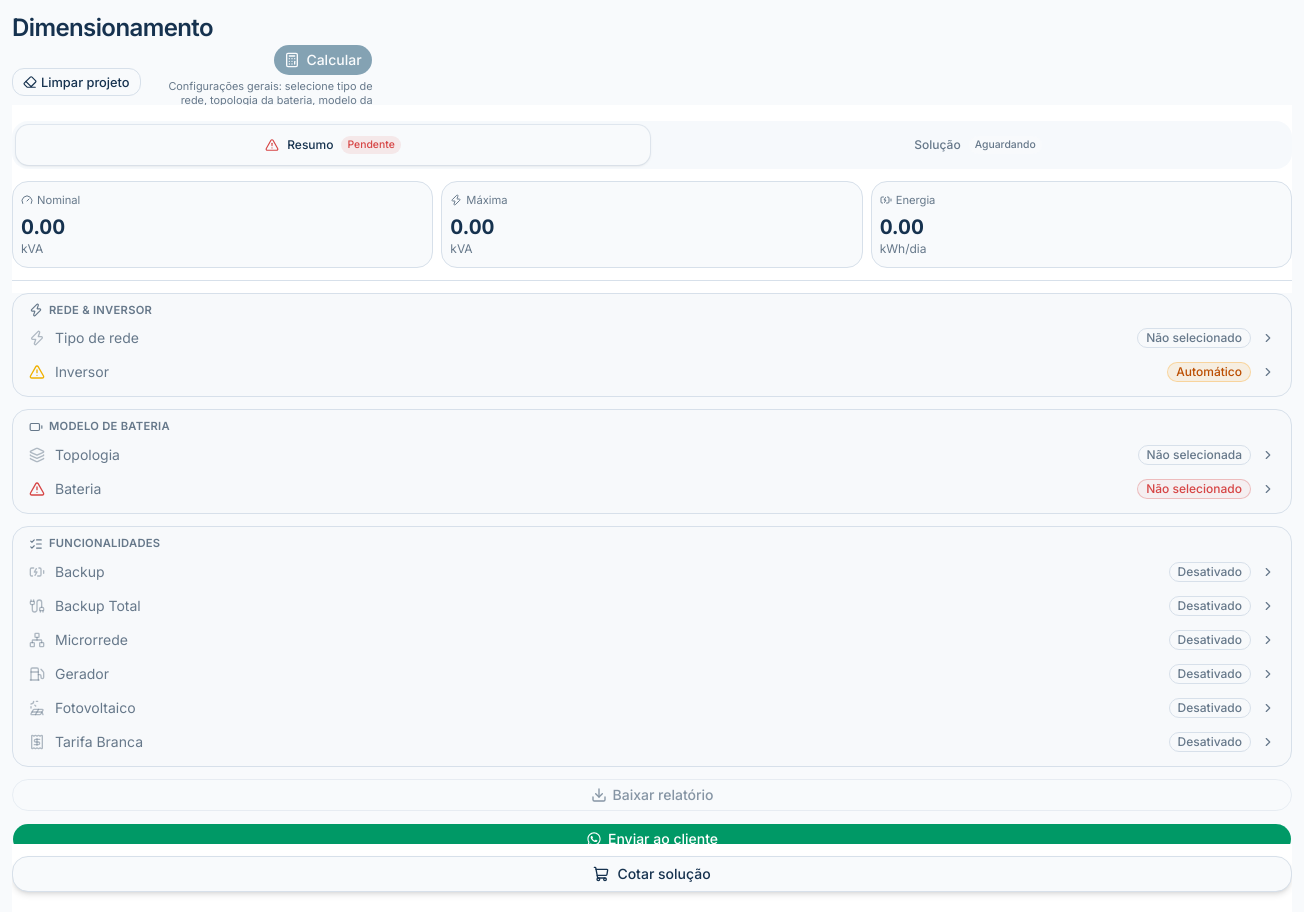
Test case: SizingTab: summary panel › shows the requirement checklist with no solution yet, and the placeholder in Solução
Expected: the text "Topologia" is shown, [55,446,120,463]
Click the tab "Solução Aguardando". click: (971, 145)
box: [654,125,1288,165]
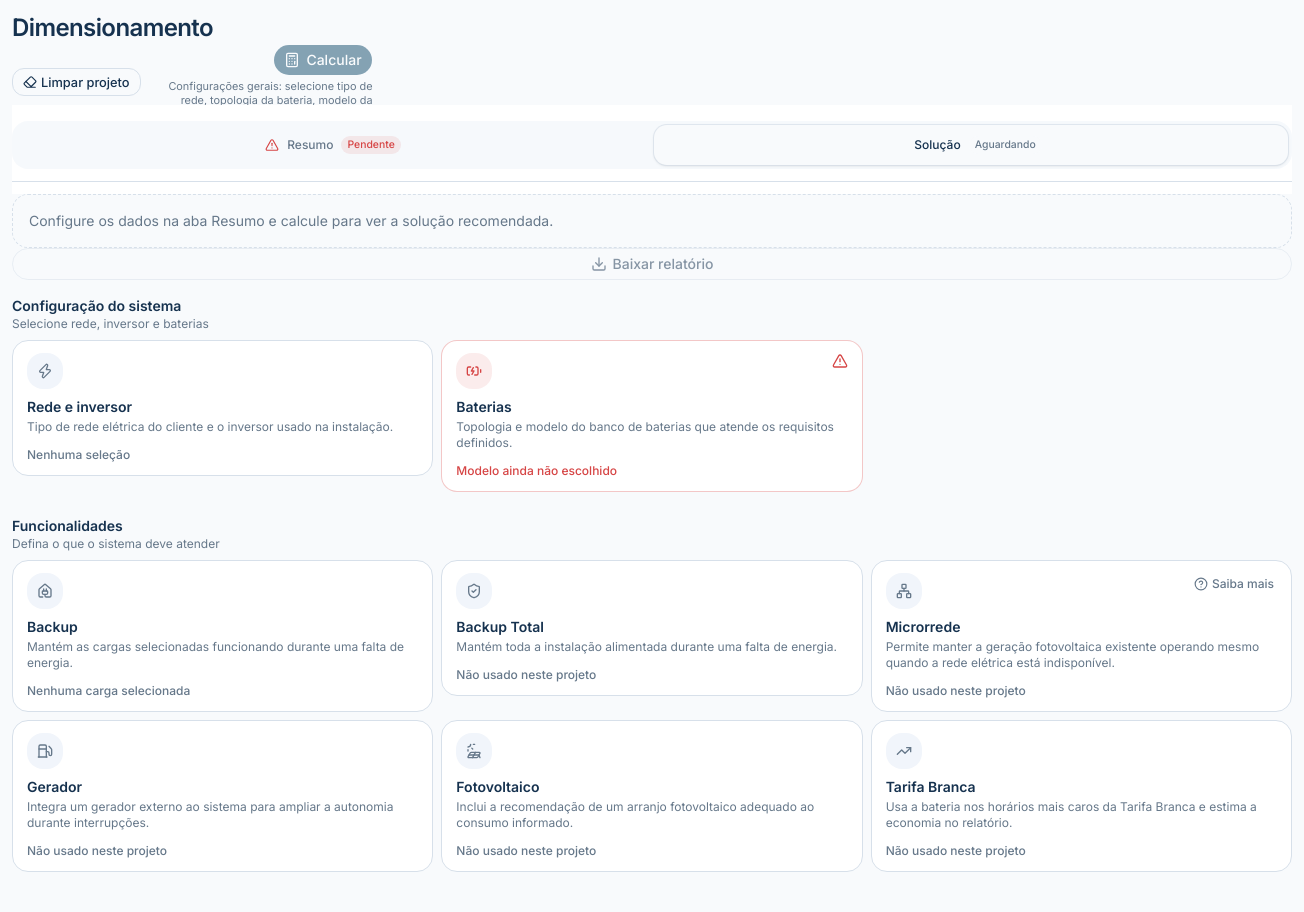
Expected: the text "Configure os dados na aba Resumo e calcule para ver a solução recomendada." is shown, [12,194,1292,248]
